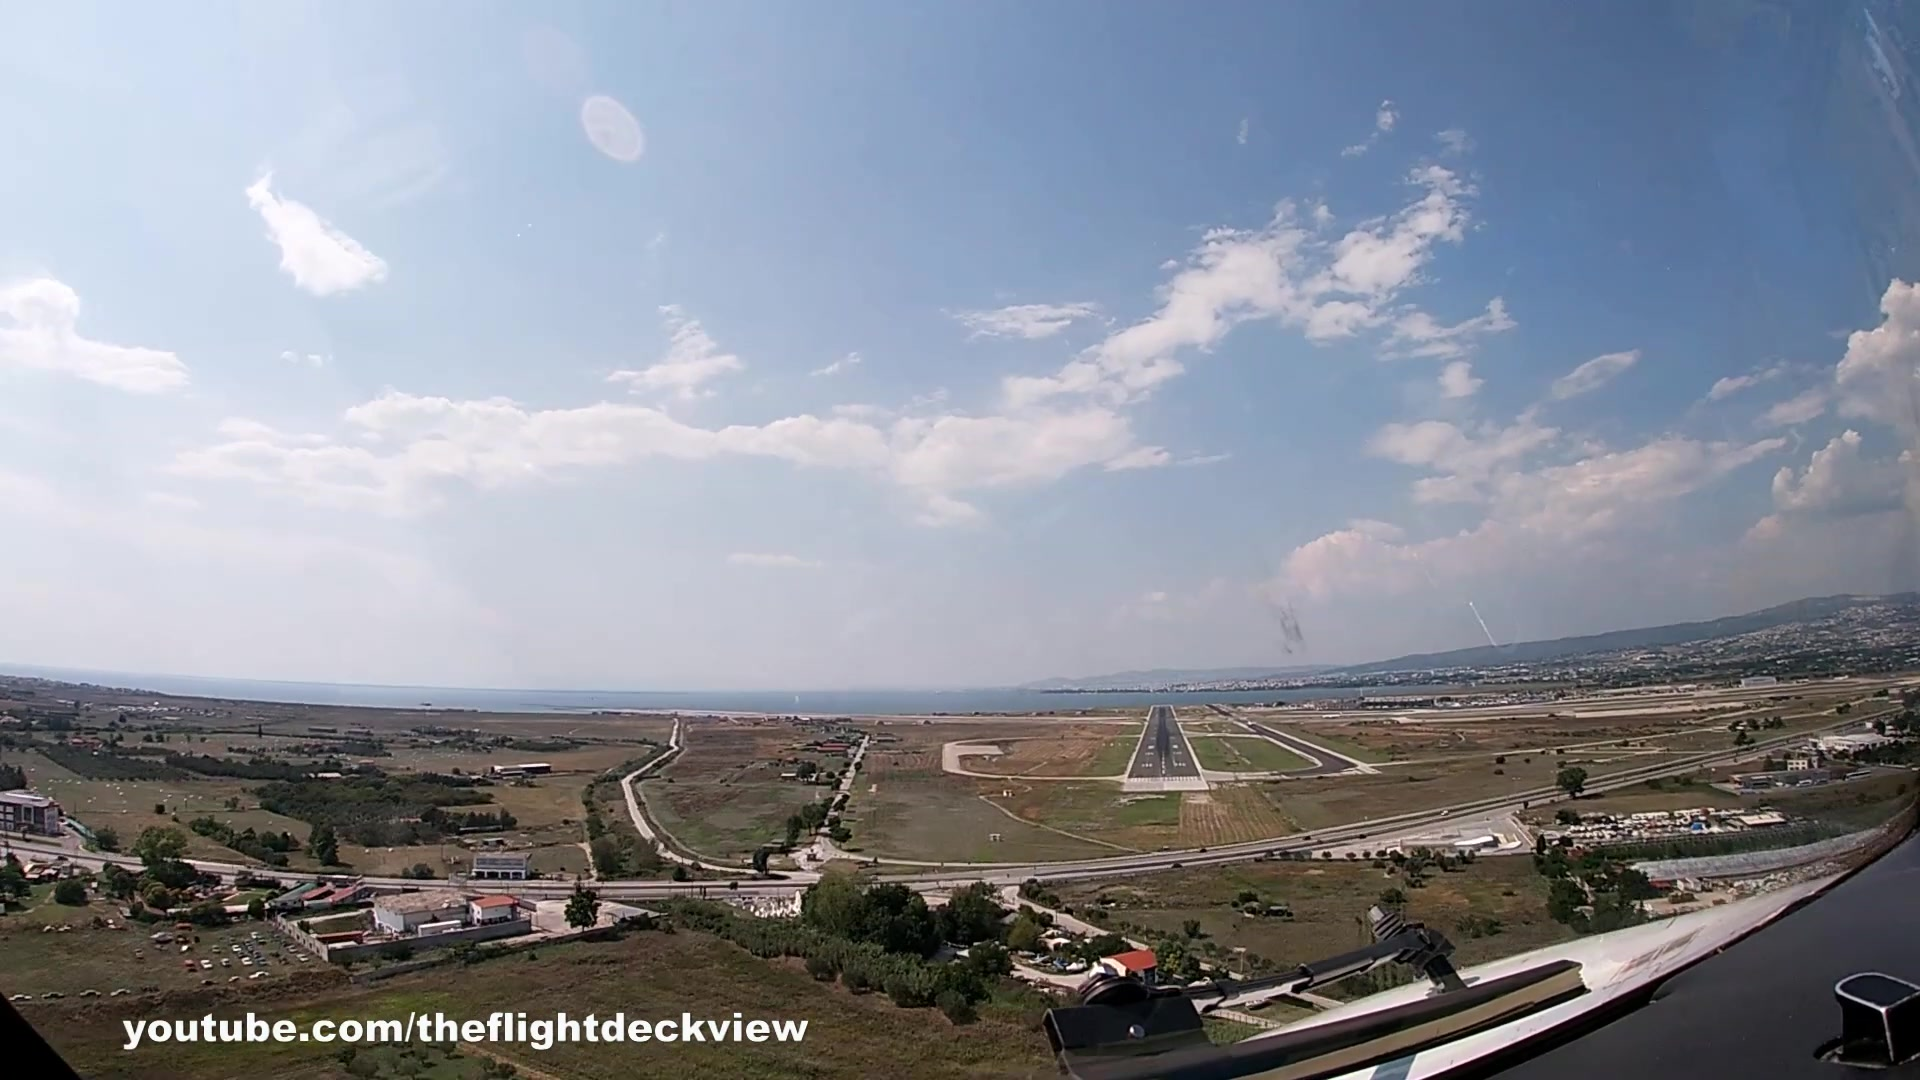entrance: (1127, 775, 1199, 783)
runway: (1122, 703, 1207, 791)
